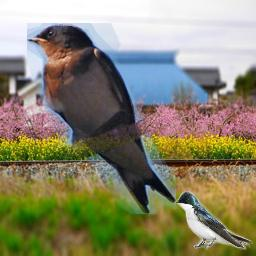Swallow: (27, 23, 176, 214), (174, 190, 253, 250)
